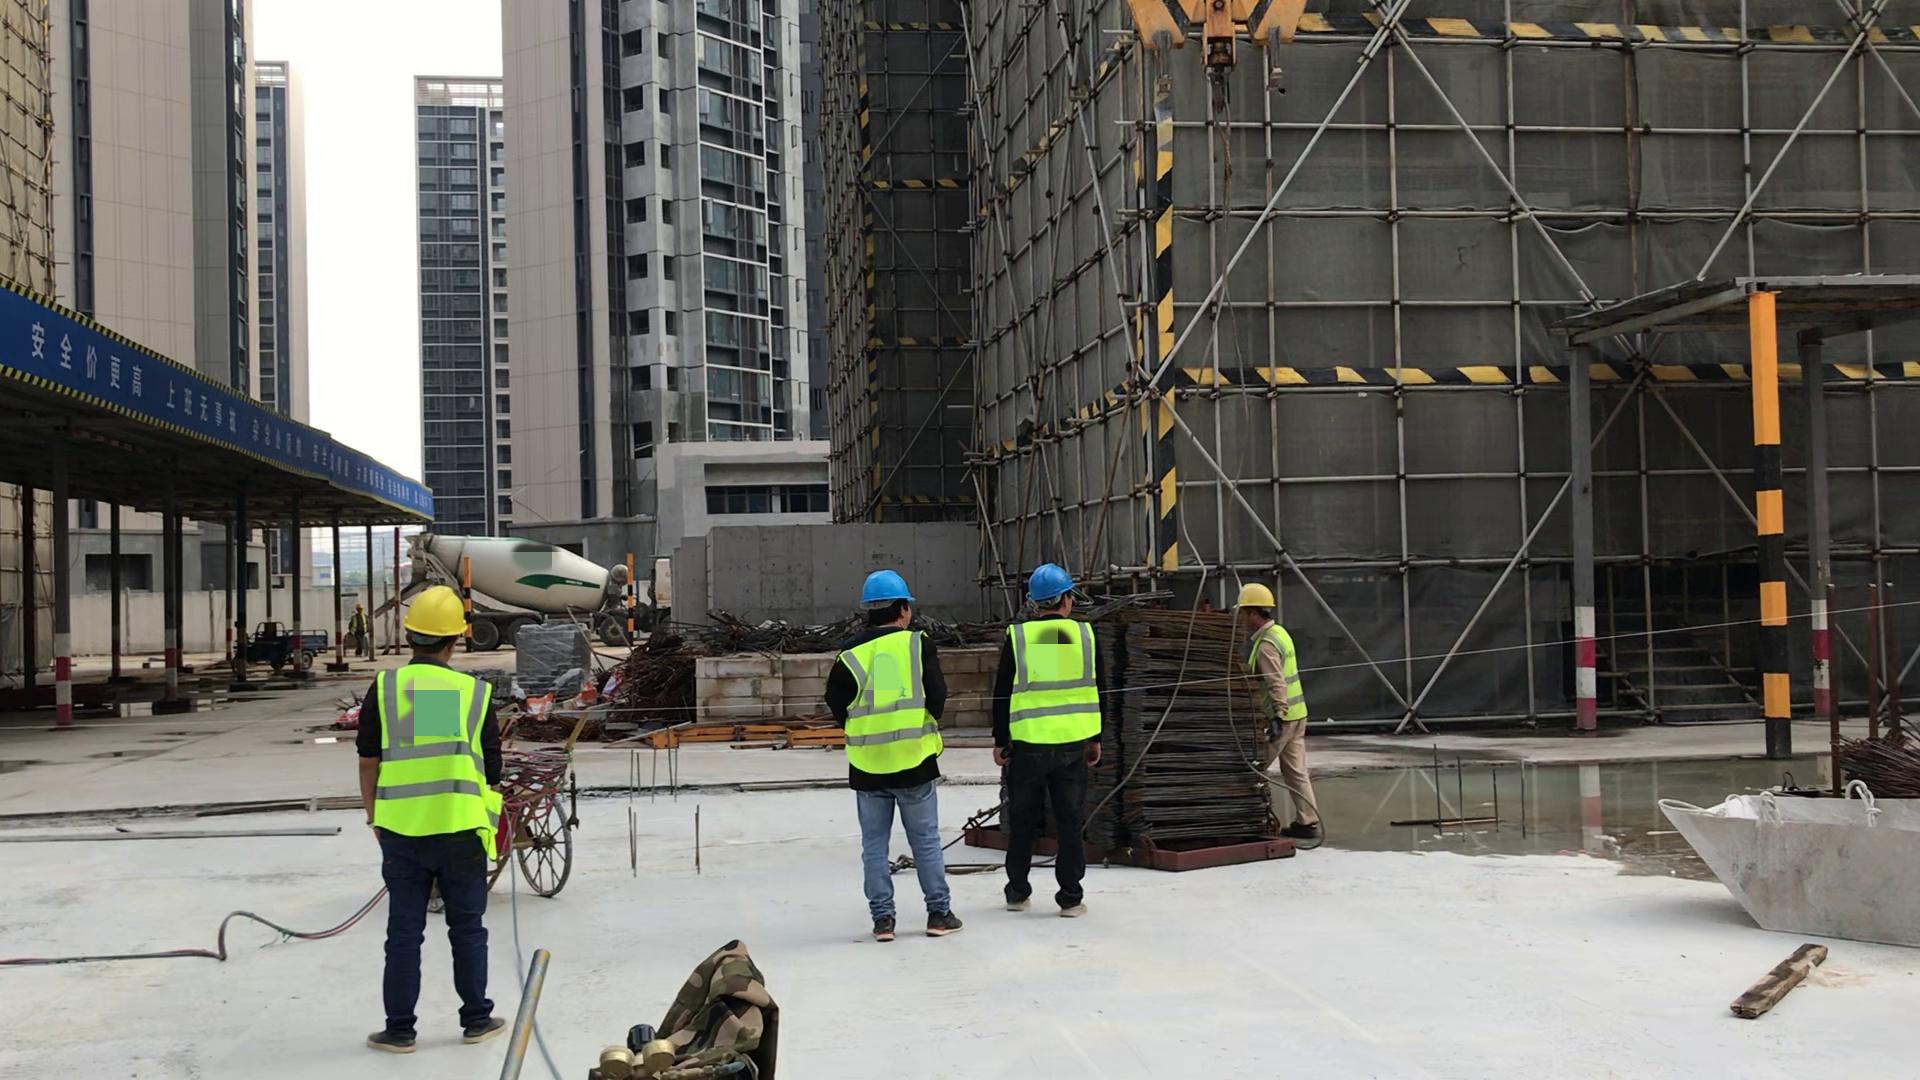fence: (32, 316, 200, 424), (203, 385, 341, 479), (341, 446, 437, 509)
handcart: (506, 708, 584, 901)
helmet: (397, 585, 474, 645), (857, 569, 917, 615), (1024, 565, 1075, 608), (1233, 583, 1274, 611), (353, 602, 364, 612)
hook: (1115, 2, 1311, 116)
hopper: (1648, 782, 1920, 959)
person: (345, 582, 532, 1058), (817, 567, 963, 939), (988, 565, 1106, 922), (1228, 578, 1328, 854), (348, 603, 370, 658)
vest: (377, 659, 500, 868), (830, 620, 947, 780), (997, 616, 1103, 749), (1249, 623, 1308, 723), (349, 613, 368, 635)
